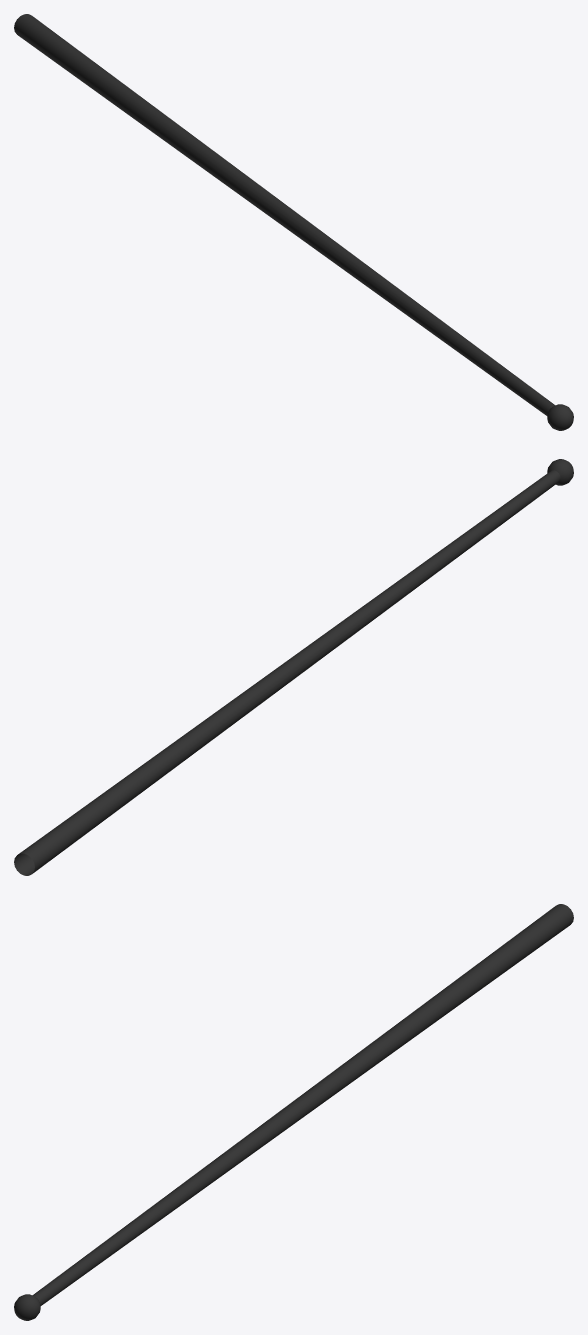
File: Große Glocke_6000.obj
3 views of the same model, one above another, from view 1: azimuth 30°, elevation 25°; view 2: azimuth 150°, elevation 25°; view 3: azimuth 330°, elevation 25° (orthographic).
Visible parts, largest first — view 1: Mast_6,0m_Metalogalva, große_Mastkugel; view 2: Mast_6,0m_Metalogalva; view 3: Mast_6,0m_Metalogalva, große_Mastkugel.
Part boxes in pixels (box(x1,y1,x2,y2)): Mast_6,0m_Metalogalva: box(14, 14, 555, 415); große_Mastkugel: box(547, 404, 573, 430); Mast_6,0m_Metalogalva: box(14, 470, 560, 875); Mast_6,0m_Metalogalva: box(32, 904, 573, 1305); große_Mastkugel: box(14, 1294, 40, 1320).
Bounding box in the file's own units: 0.15 × 0.15 × 6.08.
2 materials, 2 textured.
